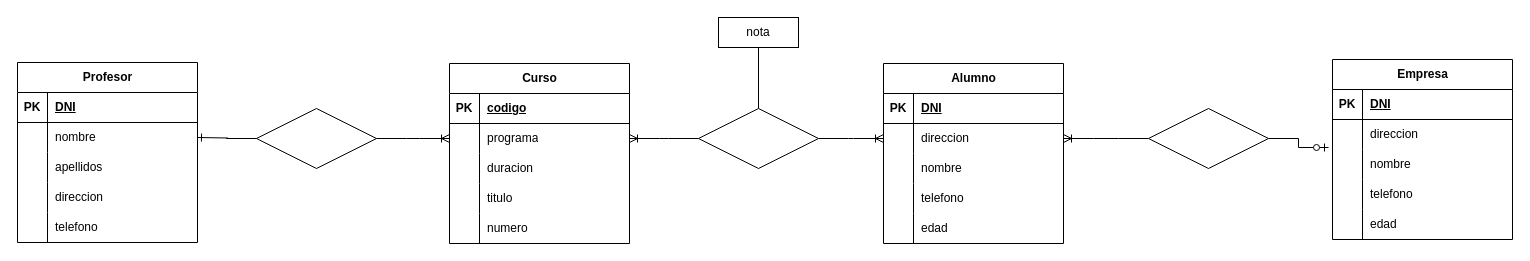
This 1530x261 diagram has some shape labels left out. Each missing label, with the centre of its shape:
"asiste" belongs at point (758, 138).
"enseña" belongs at point (316, 138).
"trabaja" belongs at point (1208, 138).
